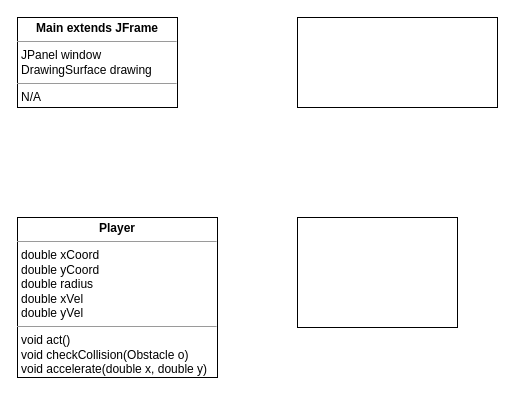
This 515x395 diagram has some shape labels left out. The shapes that lost their labels are listed below. From the top down, each one's centre as x and y in pixels, then its label:
pixel 397 62: DrawingSurface extends PApplet + field: Type + method(): Type
pixel 377 272: Obstacle String type double xCoord double yCoord + method(): Type
